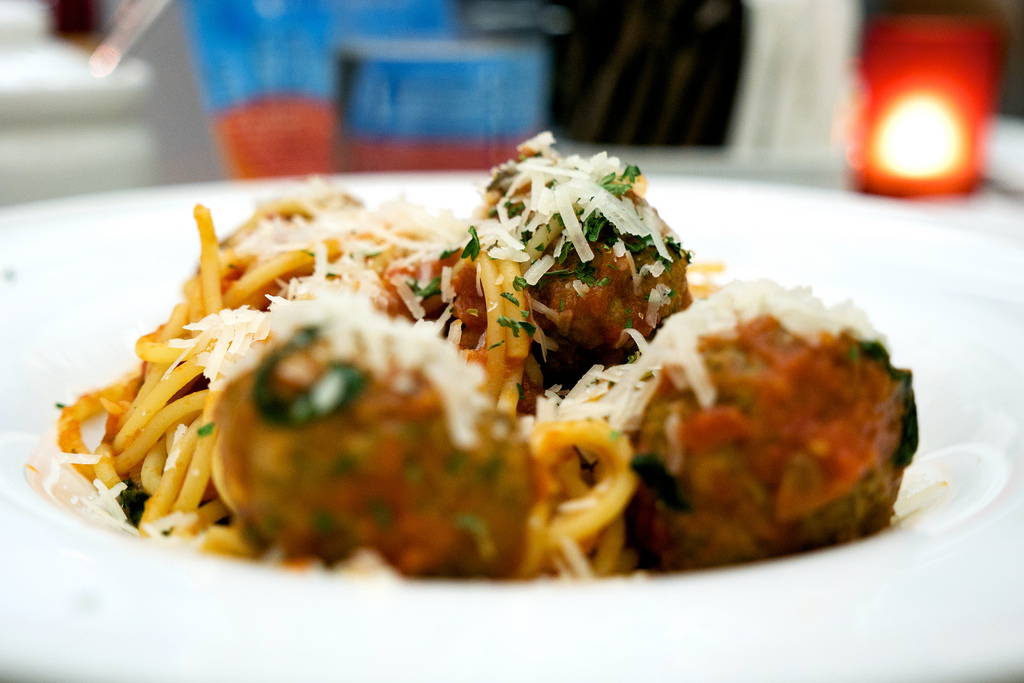meatballs: (660, 312, 921, 555), (480, 136, 694, 352)
plain spaghetti: (110, 345, 204, 500)
